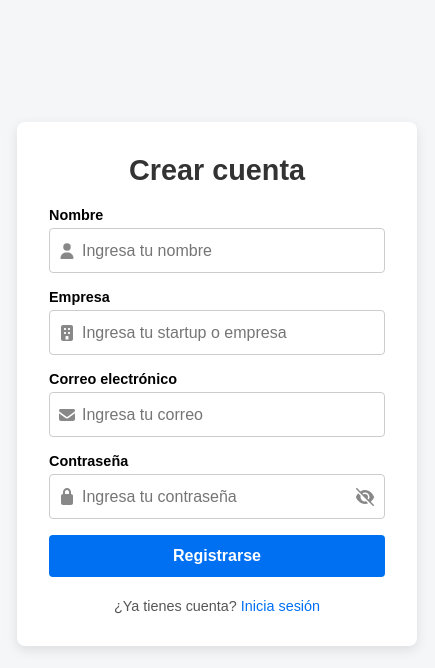
Test: RegisterPage › submits form and shows success notification
Type "Test User" into the field with test id "input-name" at (217, 250), box [49, 228, 385, 273]
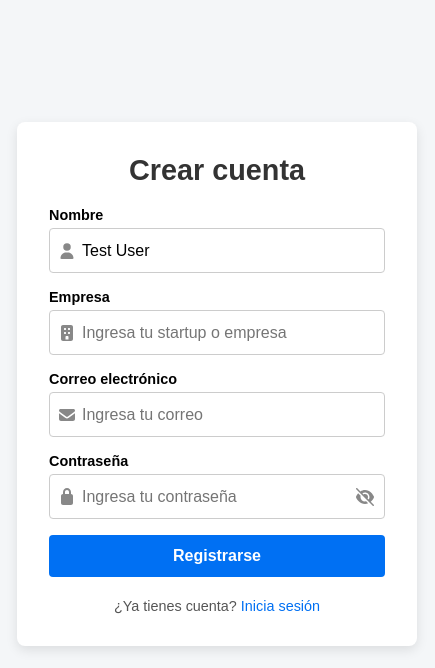
Type "Test Tenant" into the field with test id "input-tenant" at (217, 332), box [49, 310, 385, 355]
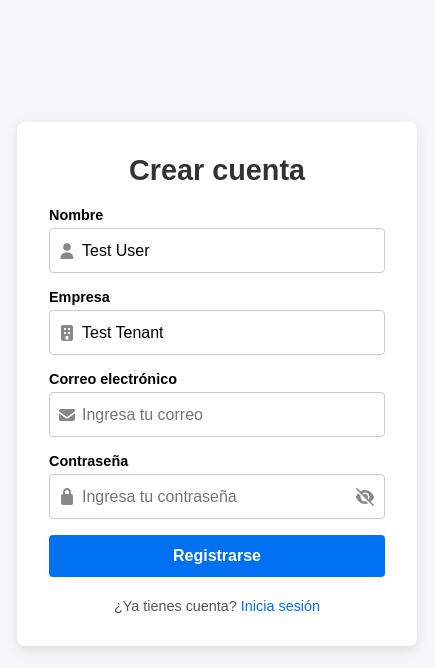
Type "user@example.com" into the field with test id "input-email" at (217, 414), box [49, 392, 385, 437]
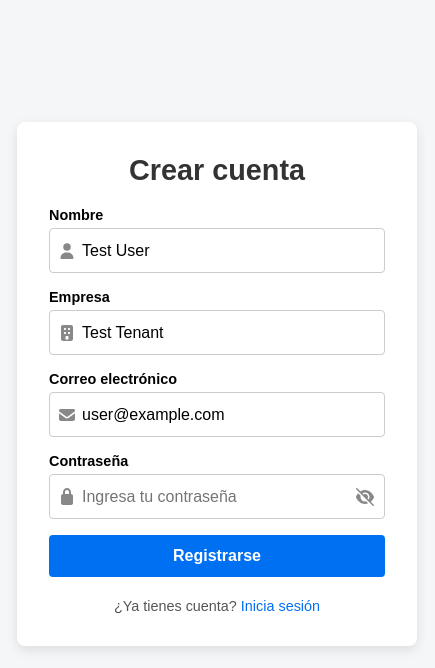
Type "123456" into the password field with test id "input-password" at (217, 496), box [49, 474, 385, 519]
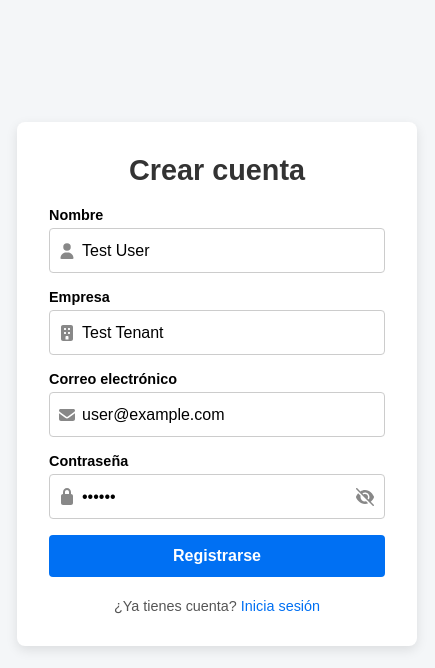
Click the button with test id "btn-register" at (217, 556), box [49, 535, 385, 577]
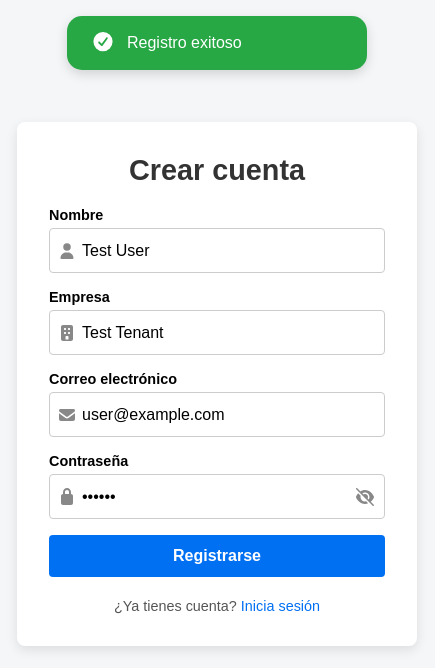
Check: the text "Registro exitoso" is shown, box [127, 34, 242, 51]
